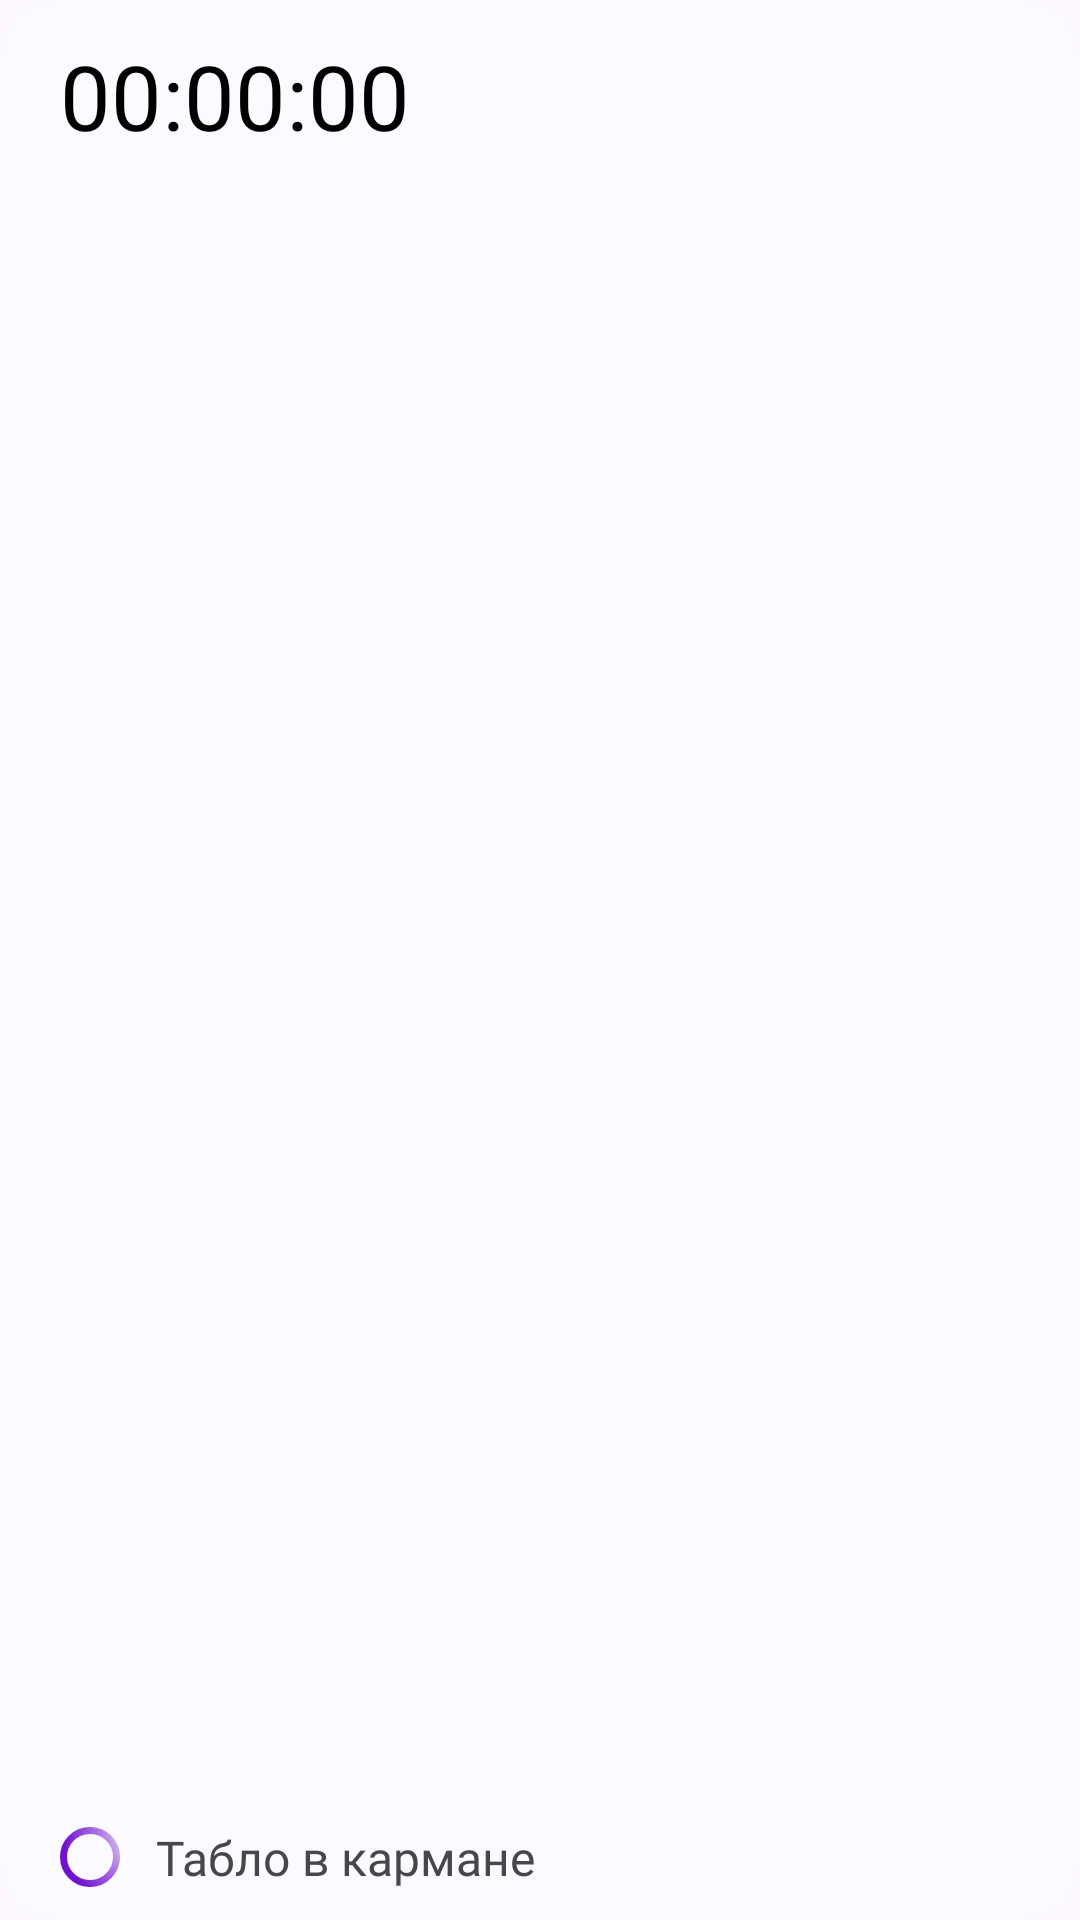

Screen size 1080px×1920px. Icon name, then its center in pixels as point (x, y):
processing: point (90, 1857)
